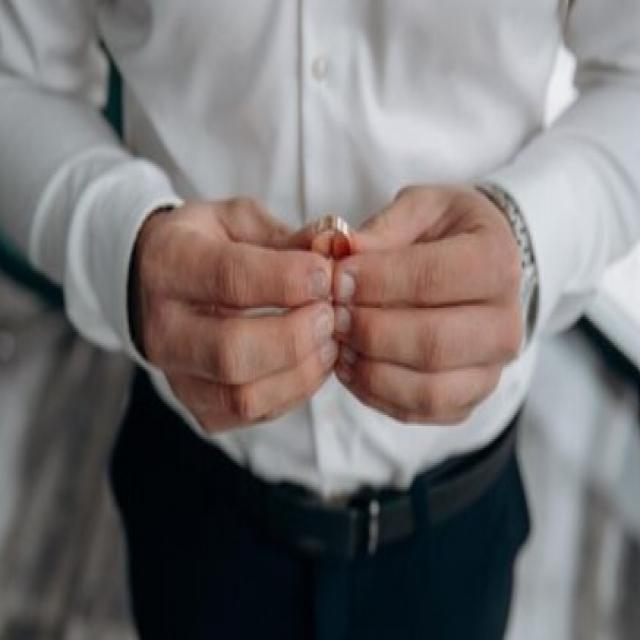Watch: (474, 172, 555, 362)
